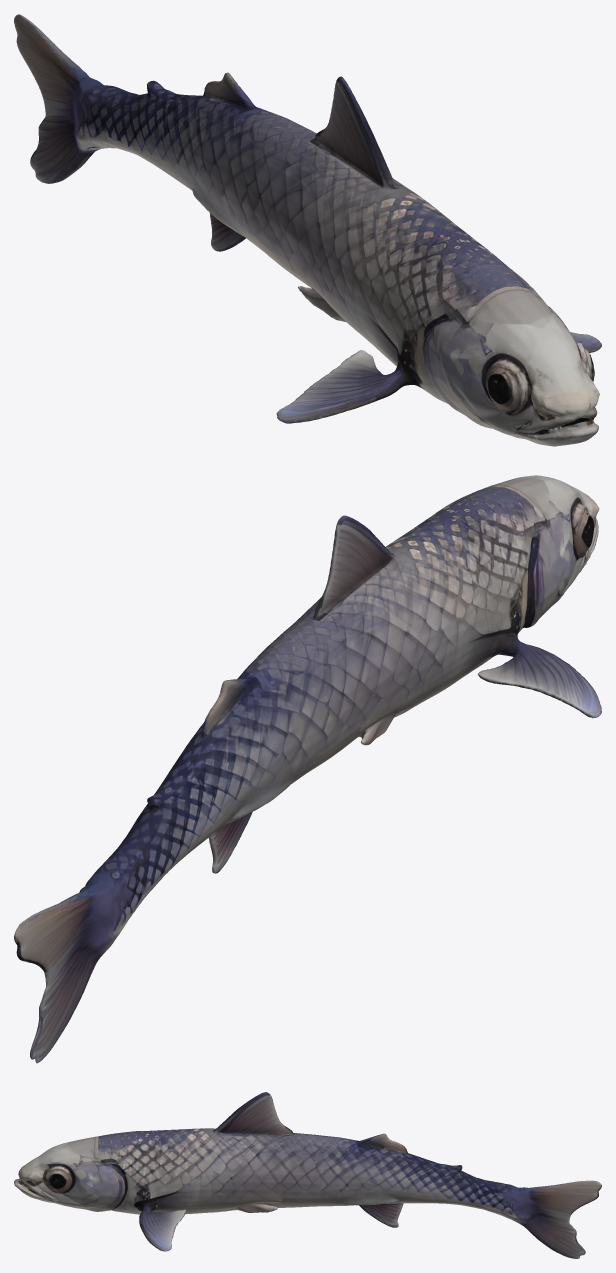
The model's file is fish_abyss_grenadier.glb.
3 views of the same model, one above another, from view 1: azimuth 30°, elevation 25°; view 2: azimuth 150°, elevation 25°; view 3: azimuth 270°, elevation 25° (orthographic). The views are drawn at different scales.
Parts seen in each view (by area): view 1: tripo_node_14825c1e-ba1a-447a-897d-f6044e9568ca; view 2: tripo_node_14825c1e-ba1a-447a-897d-f6044e9568ca; view 3: tripo_node_14825c1e-ba1a-447a-897d-f6044e9568ca.
Part boxes in pixels (x1,y1,x2,y2): tripo_node_14825c1e-ba1a-447a-897d-f6044e9568ca: (14,14,601,446); tripo_node_14825c1e-ba1a-447a-897d-f6044e9568ca: (14,475,601,1063); tripo_node_14825c1e-ba1a-447a-897d-f6044e9568ca: (14,1092,601,1258).
Bounding box in the file's own units: 0.3225 × 0.3131 × 1.
Materials: 1 (1 with a texture image).
